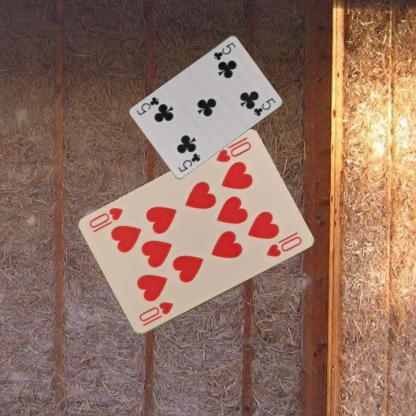10h: (136, 299, 174, 328), (213, 139, 253, 164)
5c: (175, 150, 202, 174), (211, 40, 237, 62)
